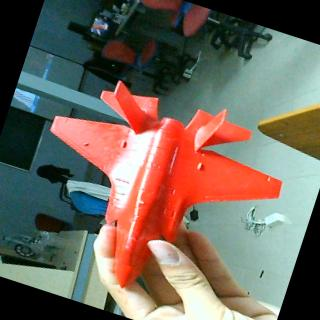Jet: (9, 58, 300, 320)
